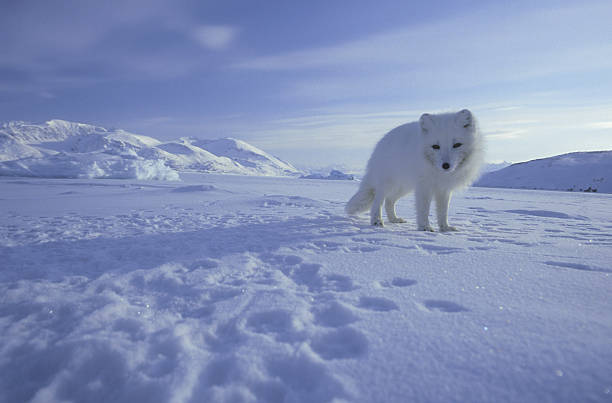arcticfox: (414, 114, 475, 179)
